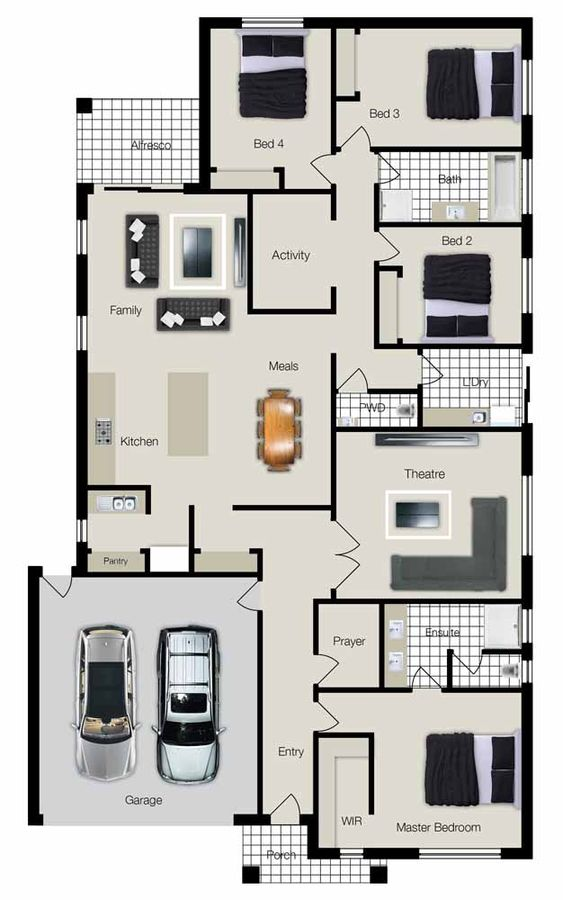room: (312, 688, 533, 859), (331, 426, 532, 603), (330, 17, 532, 152), (200, 17, 334, 193), (374, 222, 533, 348)
window: (416, 847, 502, 860), (521, 474, 533, 554), (519, 60, 532, 115), (520, 159, 533, 214), (520, 258, 533, 313), (241, 17, 304, 27), (75, 219, 89, 256), (74, 315, 88, 352), (520, 607, 533, 644), (74, 519, 89, 545), (520, 659, 534, 685), (338, 848, 362, 860)
